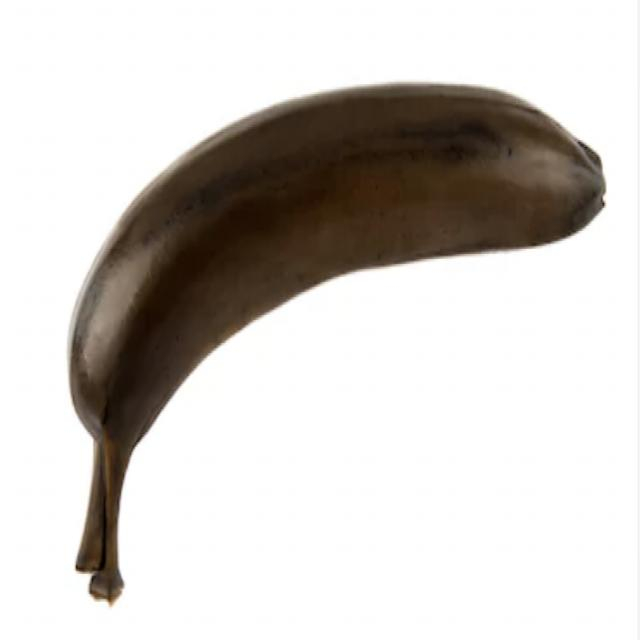rotten-banana: (33, 73, 614, 598)
